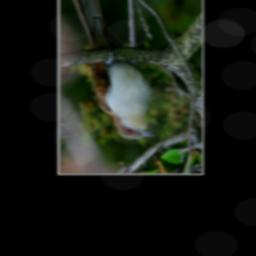Cuckoo: (65, 0, 157, 140)
